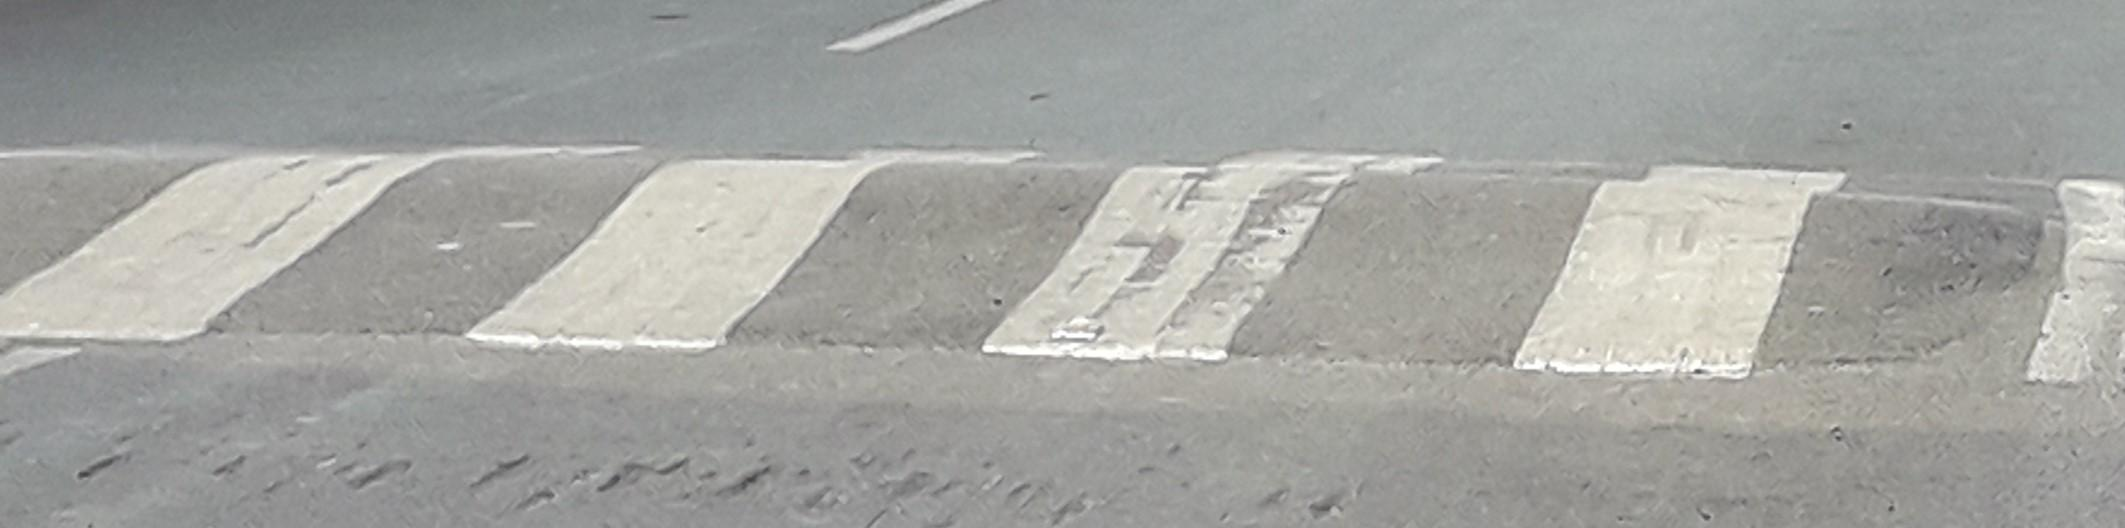speed-bump: (3, 149, 2123, 390)
